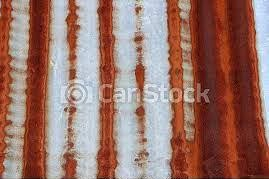Corrosion: (165, 1, 269, 179), (21, 1, 52, 179), (96, 1, 119, 179), (61, 1, 81, 179), (132, 1, 149, 179), (1, 1, 15, 179)
